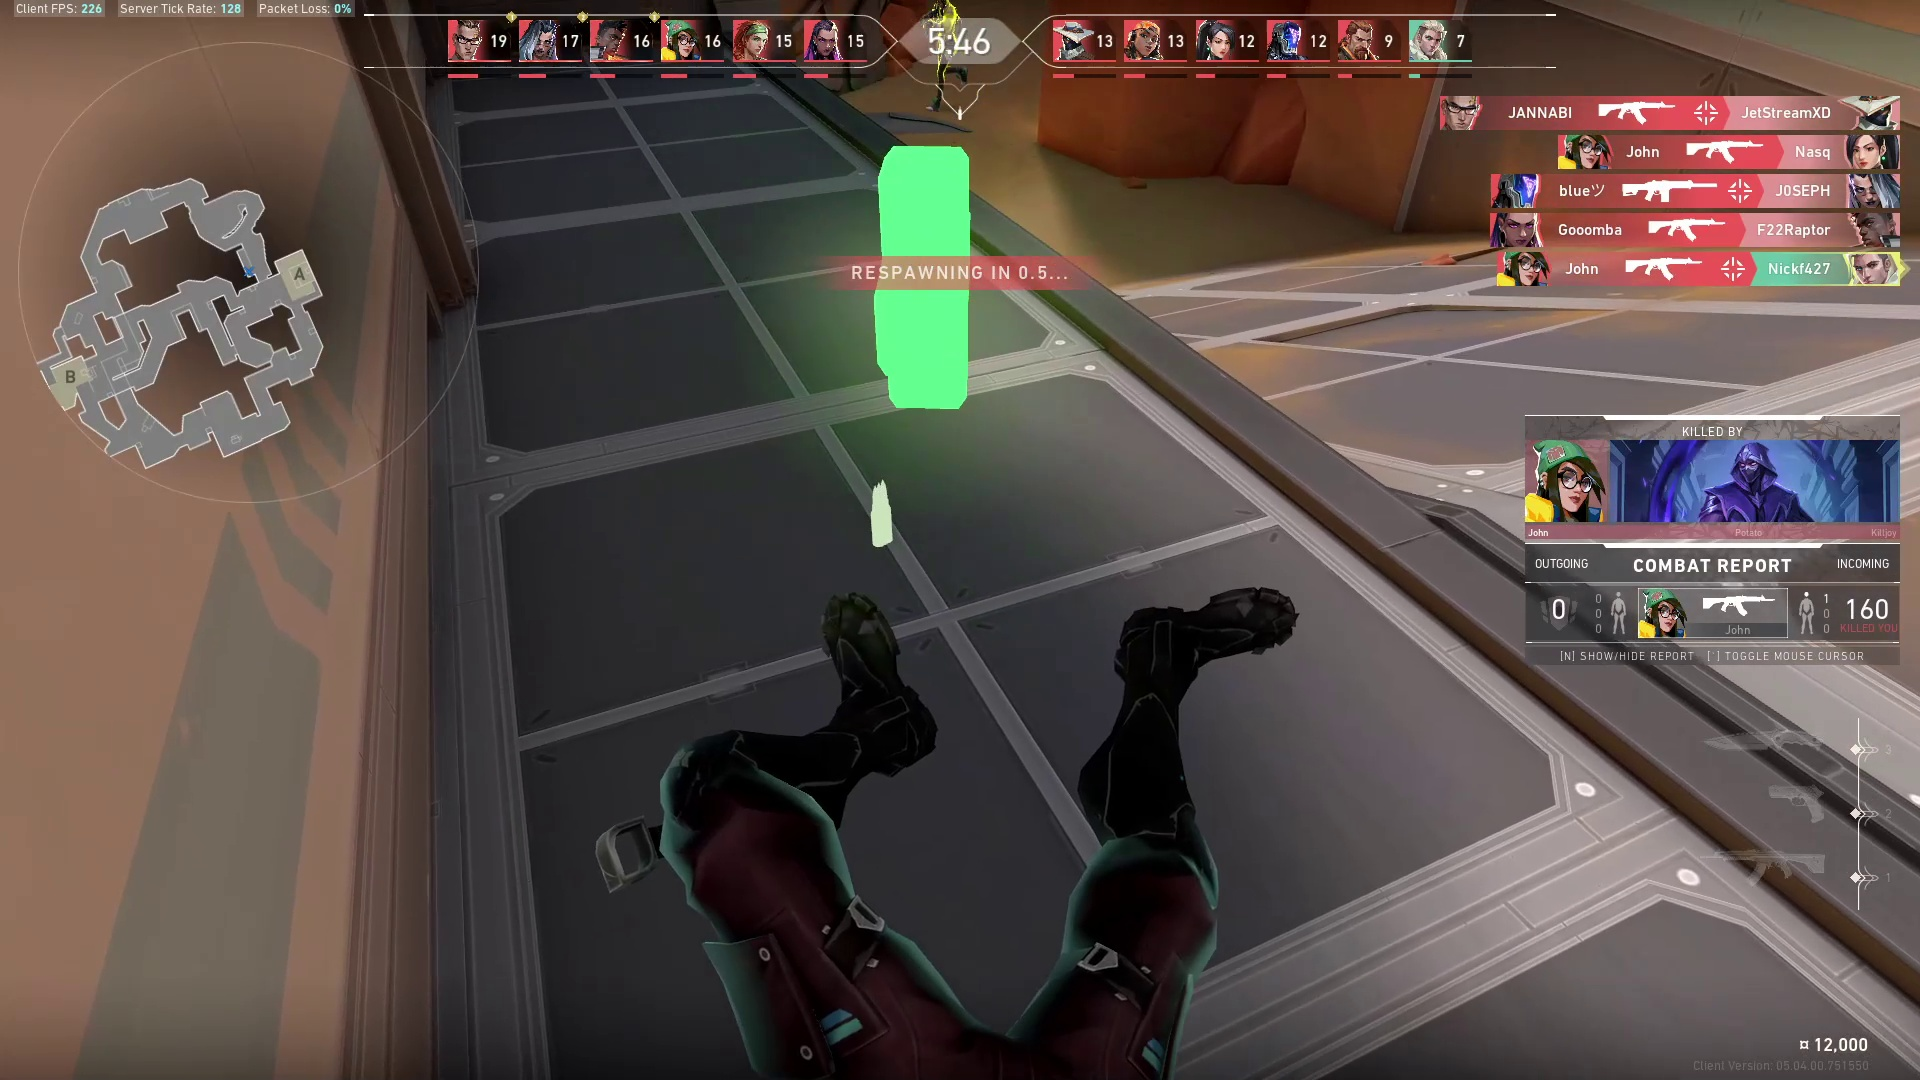enemy_gen: (927, 61, 972, 105)
enemy_head: (910, 1, 971, 20)
